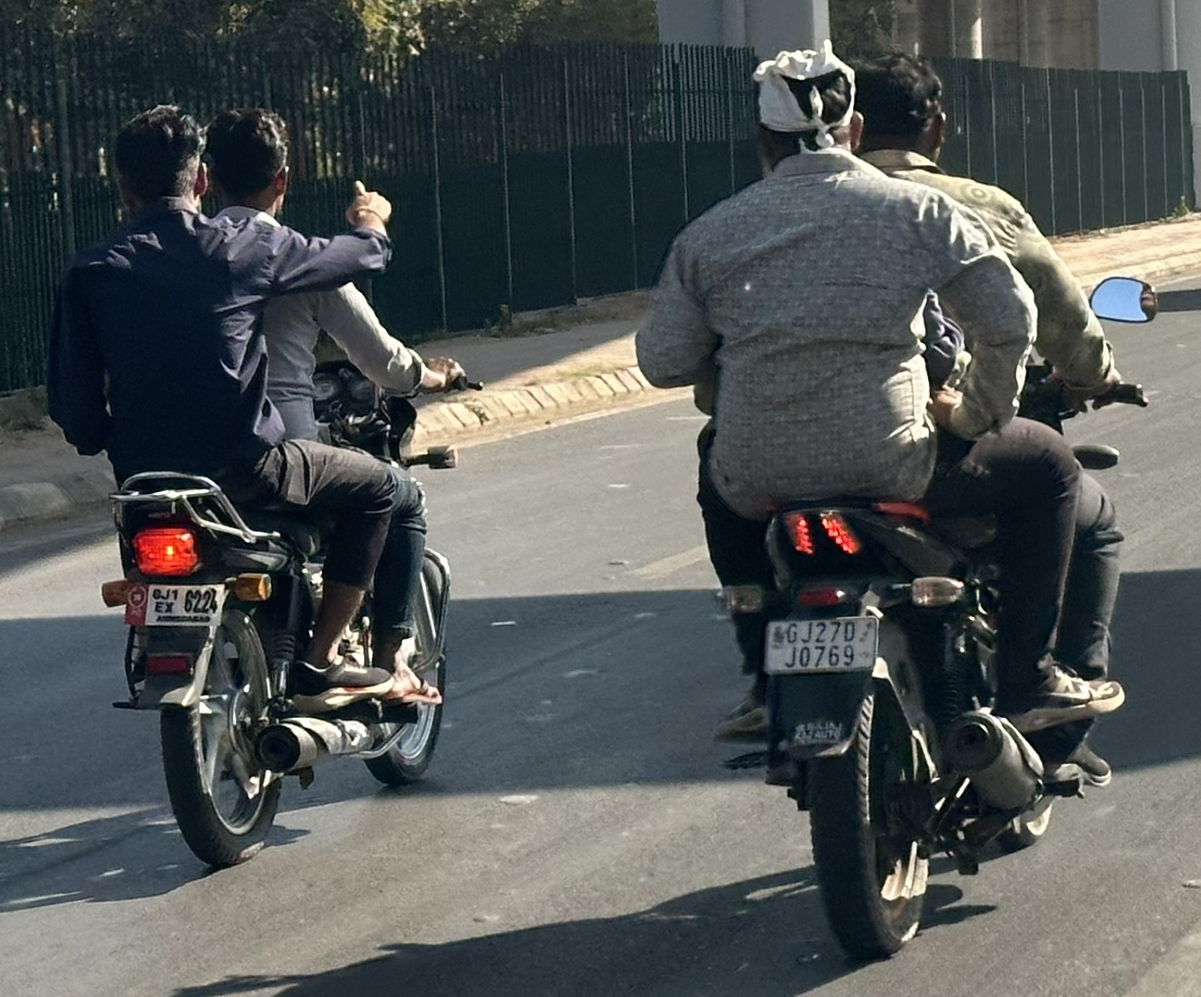BikeWithRider: (619, 35, 1173, 971), (38, 91, 495, 877)
NoHelmet: (737, 40, 867, 182), (841, 42, 962, 176), (104, 97, 217, 227), (198, 99, 303, 222)
